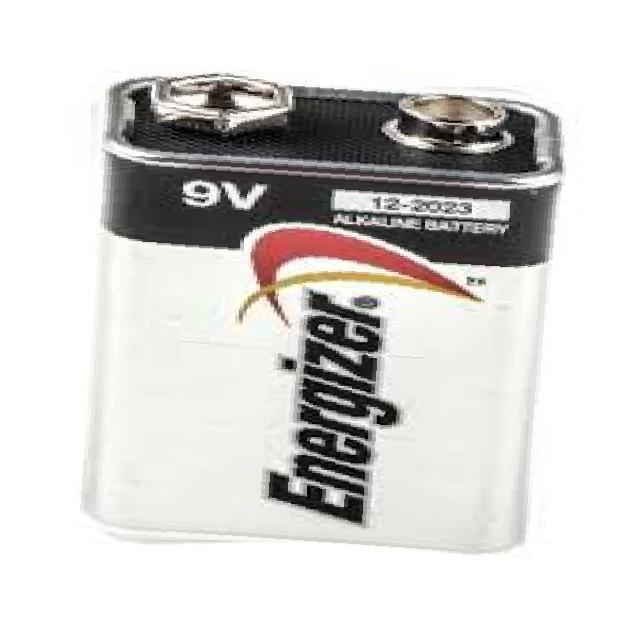Battery: (81, 68, 565, 555)
